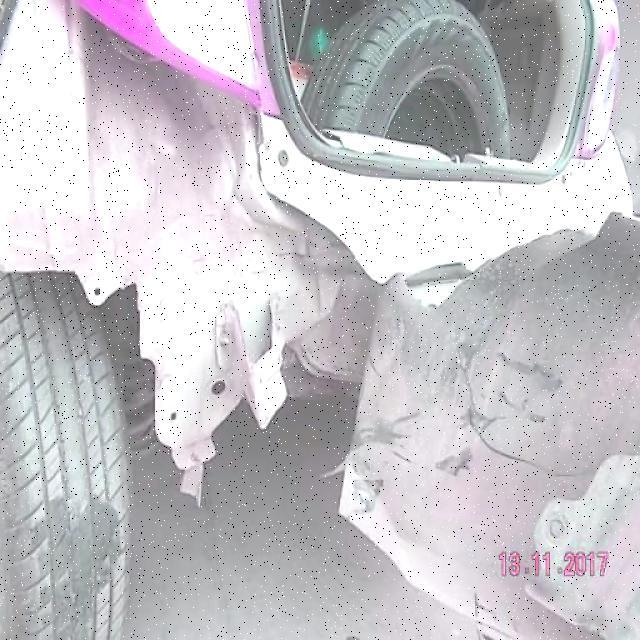car damage: (1, 0, 382, 482), (342, 224, 640, 640)
